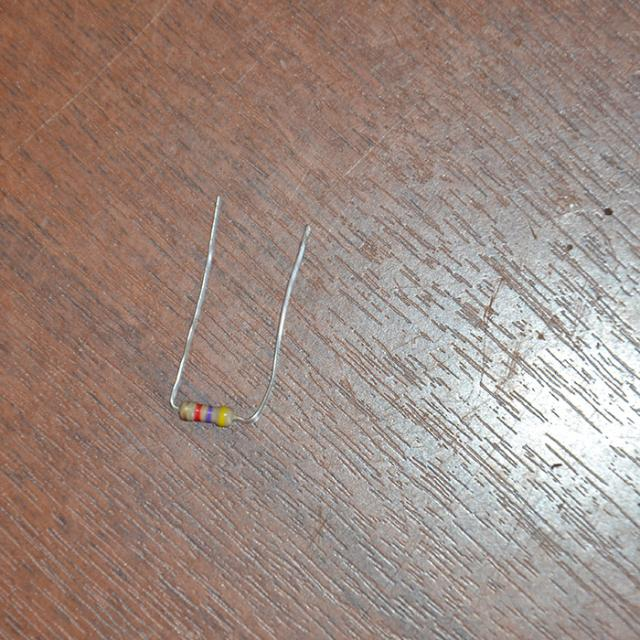gold: (181, 401, 189, 419)
red: (195, 404, 201, 421)
resistor: (162, 385, 240, 431)
violet: (205, 407, 212, 422)
yellow: (219, 407, 226, 424)
